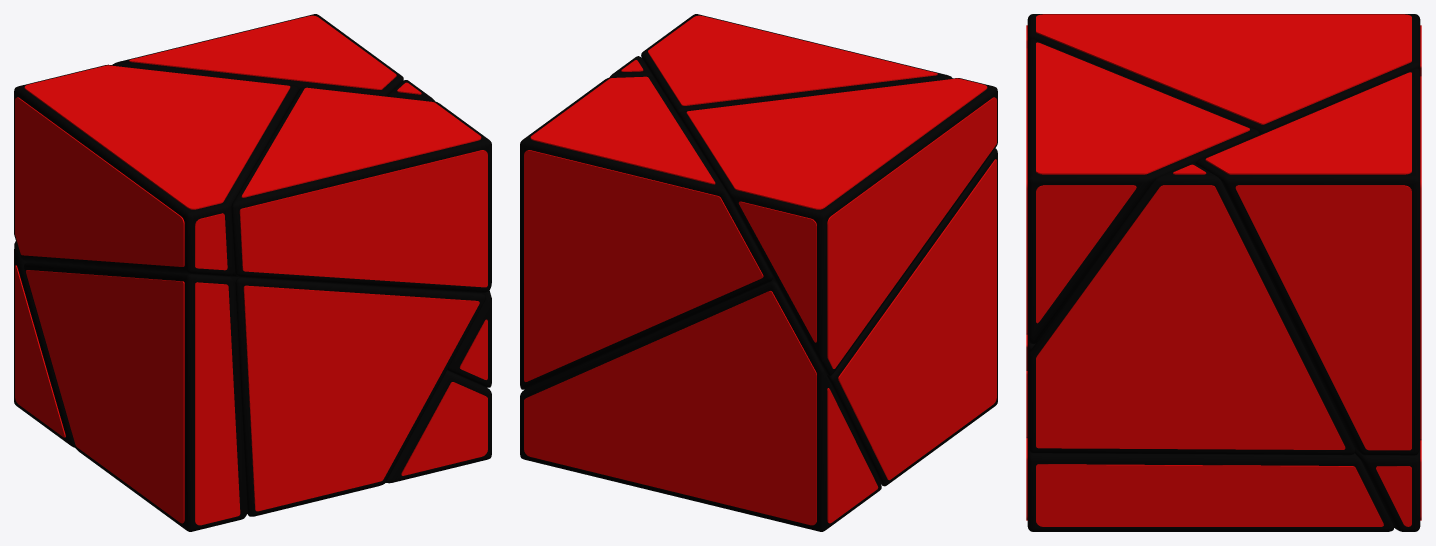
3 renders of one model, left to right at view 1: azimuth 30°, elevation 25°; view 2: azimuth 150°, elevation 25°; view 3: azimuth 270°, elevation 25°, orthographic. The views are drawn at different scales.
Parts seen in each view (by area): view 1: Piece.003, Piece.004, Piece.007, Piece.006, Piece.002, Piece.001, Piece.008, Piece.005; view 2: Piece.008, Piece.002, Piece.003, Piece.007, Piece.004; view 3: Piece.005, Piece.002, Piece.004, Piece.003, Piece.001, Piece.008.
Part boxes in pixels (x1=…): Piece.003: x1=14, y1=64, x2=298, y2=276; Piece.004: x1=231, y1=87, x2=491, y2=292; Piece.007: x1=23, y1=262, x2=247, y2=531; Piece.006: x1=235, y1=277, x2=485, y2=516; Piece.002: x1=112, y1=14, x2=403, y2=95; Piece.001: x1=385, y1=370, x2=491, y2=483; Piece.008: x1=14, y1=241, x2=75, y2=447; Piece.005: x1=387, y1=80, x2=491, y2=387; Piece.008: x1=520, y1=279, x2=881, y2=531; Piece.002: x1=520, y1=76, x2=772, y2=389; Piece.003: x1=679, y1=78, x2=997, y2=376; Piece.007: x1=827, y1=148, x2=997, y2=486; Piece.004: x1=641, y1=14, x2=952, y2=116; Piece.005: x1=1026, y1=163, x2=1355, y2=455; Piece.002: x1=1196, y1=68, x2=1421, y2=455; Piece.004: x1=1026, y1=39, x2=1259, y2=344; Piece.003: x1=1026, y1=14, x2=1421, y2=133; Piece.001: x1=1026, y1=438, x2=1393, y2=531; Piece.008: x1=1355, y1=440, x2=1421, y2=531.
Size of the model in its own units: 3.02 by 3.02 by 3.02.
